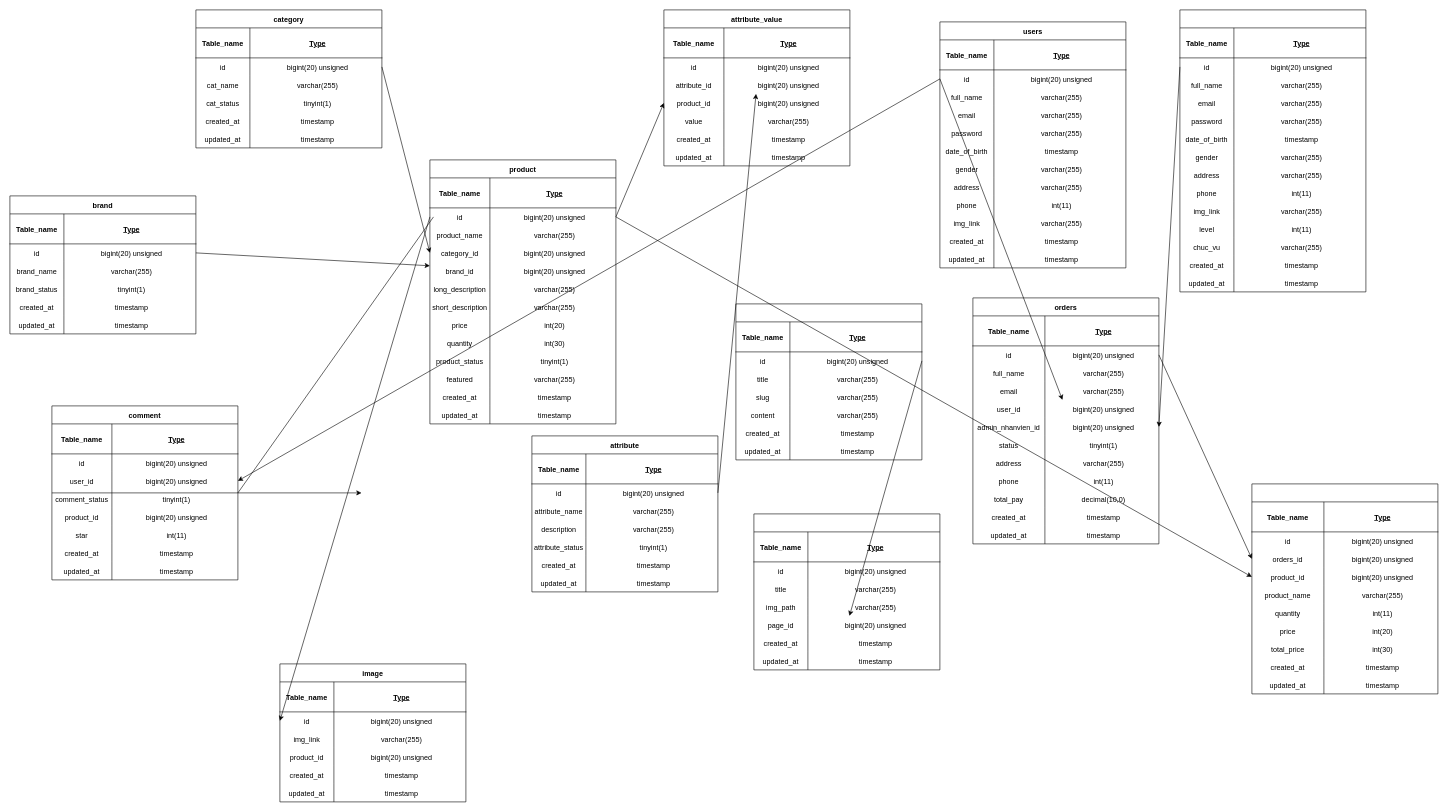
This 1448x812 diagram has some shape labels left out. The box of each missing label's shape, as (x1, y1, x2, y2) in pixels:
admin_nhanvien: (1179, 9, 1366, 292)
banner: (753, 513, 940, 670)
orders_detail: (1251, 483, 1438, 694)
page: (735, 303, 922, 460)
